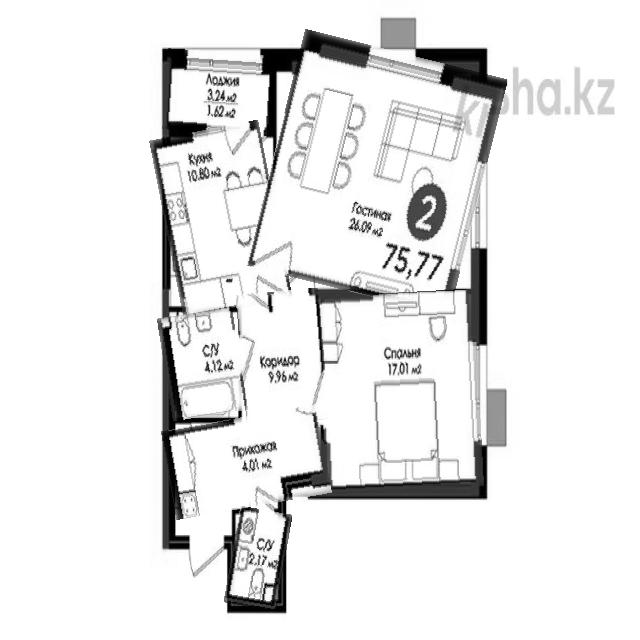balcony: (164, 50, 275, 135)
bathroom: (161, 310, 245, 418), (227, 508, 288, 610)
hallway: (164, 411, 330, 513), (238, 290, 327, 425)
kitchen: (157, 124, 284, 315)
living_room: (259, 40, 494, 306), (318, 291, 482, 493)
